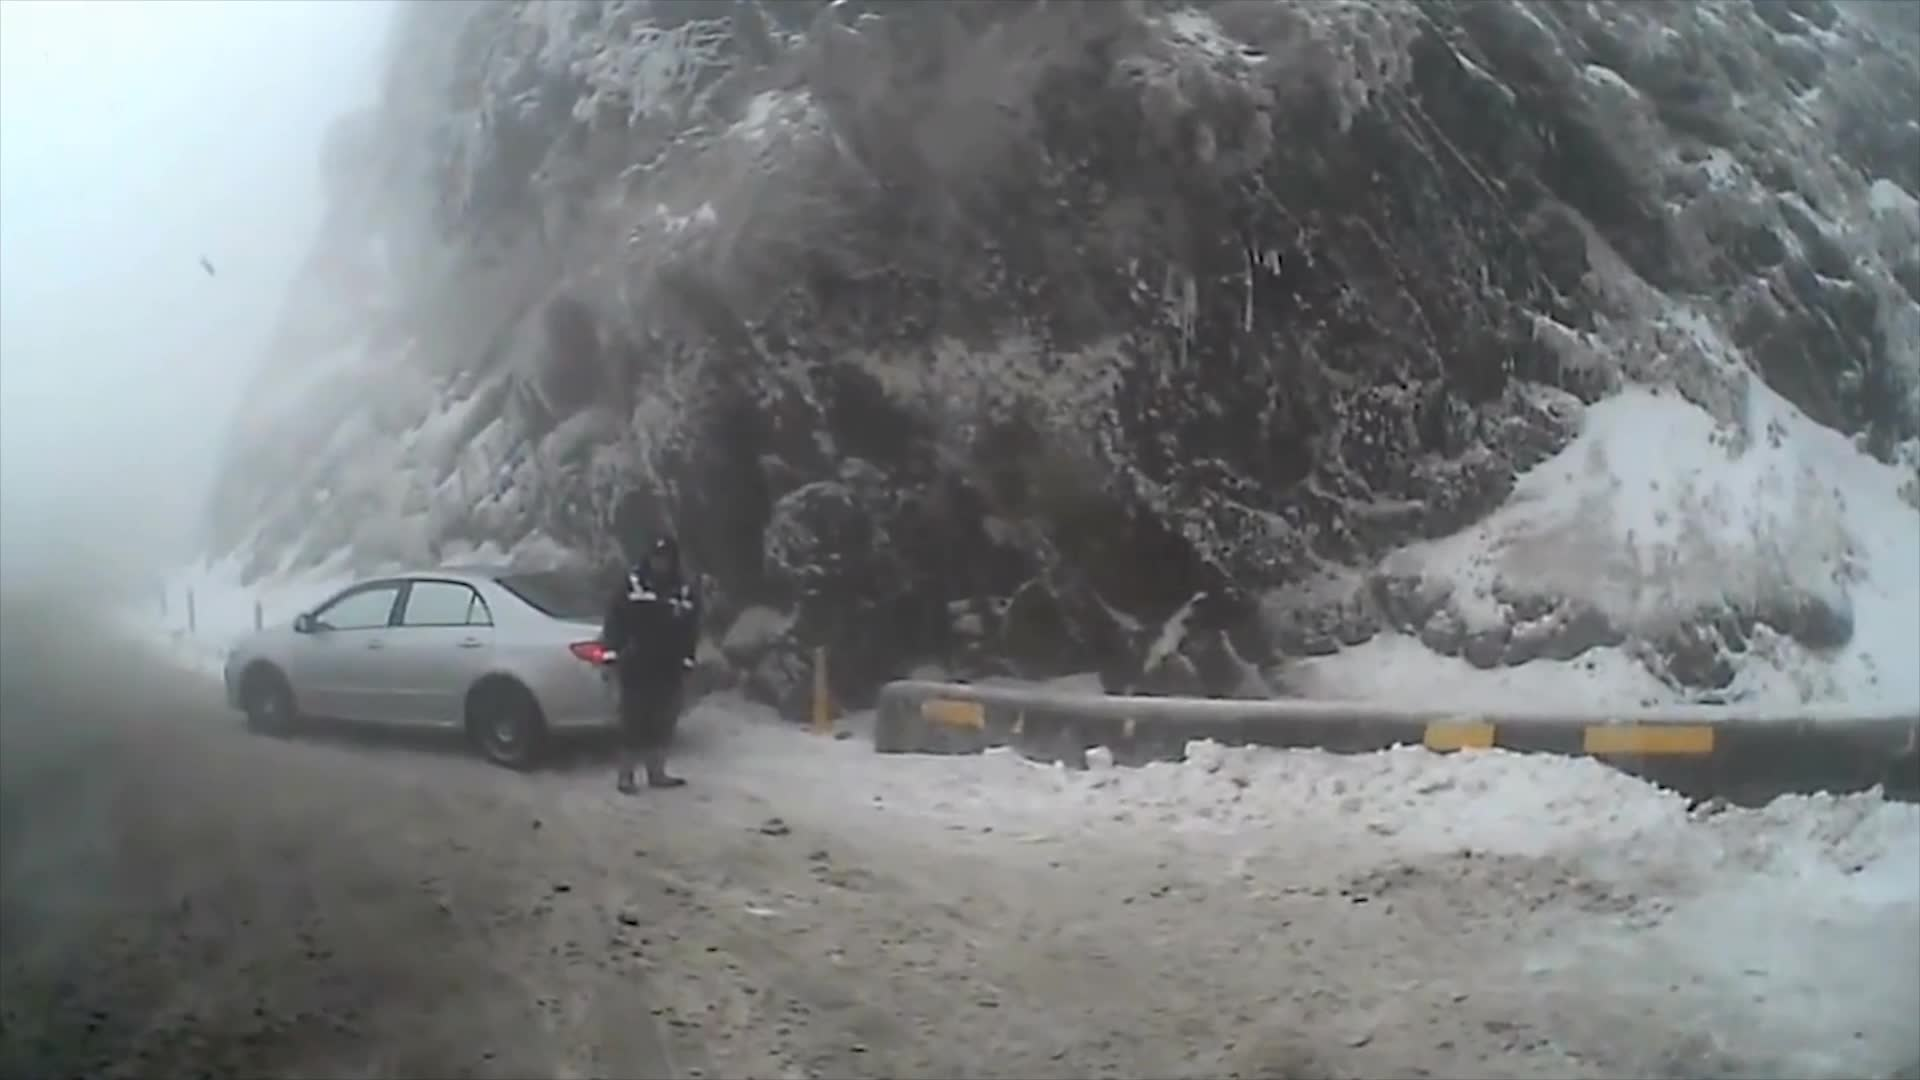pedestrian: (611, 537, 706, 794)
vehicle: (222, 561, 700, 771)
